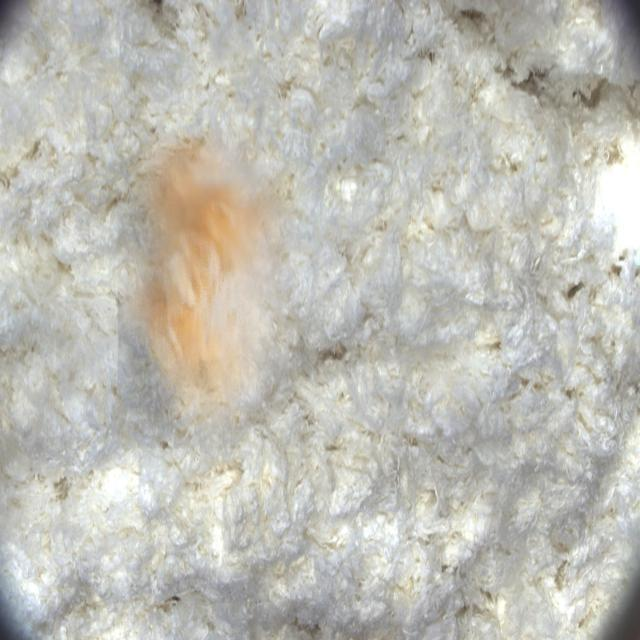dust: (118, 128, 297, 449)
